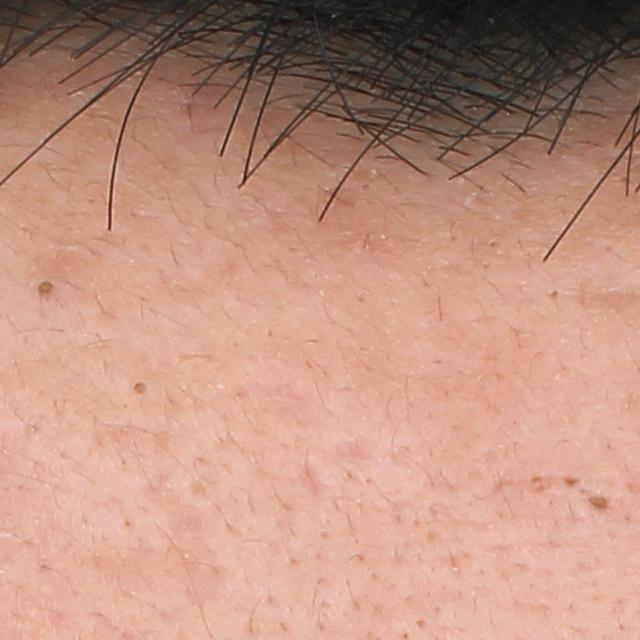atrophic_scar: (298, 454, 329, 499)
comedo: (538, 284, 561, 303)
